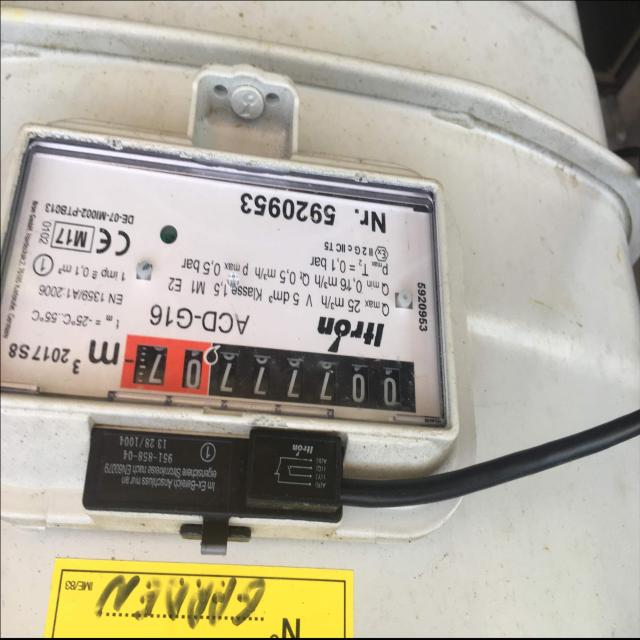gaz_meter: (0, 149, 451, 431)
indication: (121, 333, 420, 417)
